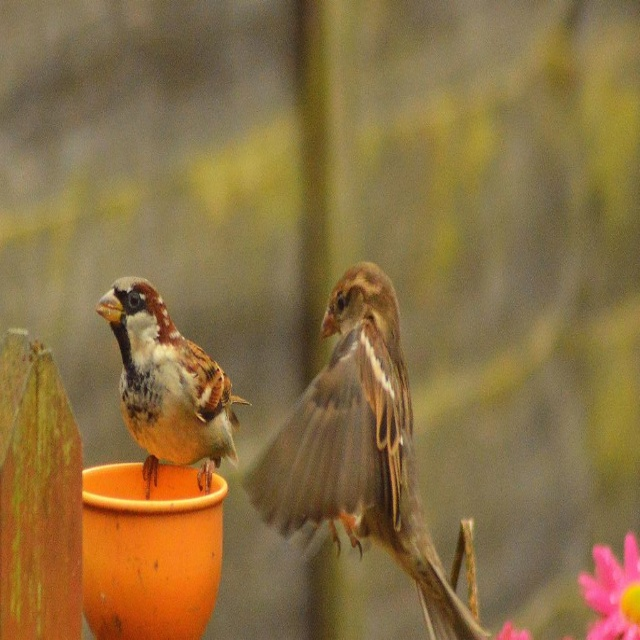Sparrow: (236, 258, 486, 639), (91, 279, 248, 505)
